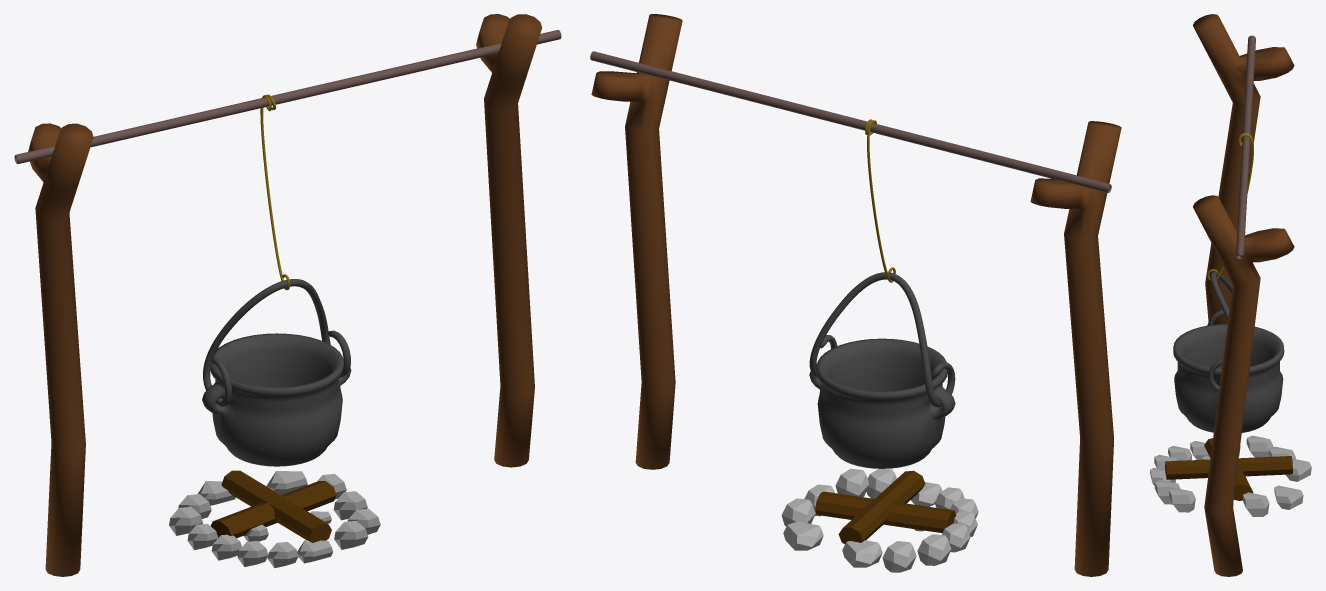
File: FOGUEIRA.prontra (2).fbx
The picture shows the model from 3 angles, left to right: view 1: azimuth 30°, elevation 25°; view 2: azimuth 150°, elevation 25°; view 3: azimuth 270°, elevation 25°; orthographic projection. The views are drawn at different scales.
Parts seen in each view (by area): view 1: Cilindro.001, Cilindro, Cubo.015, Cilindro.003, Cilindro.005; view 2: Cilindro.001, Cilindro, Cubo.015, Cilindro.003, Cilindro.005; view 3: Cilindro.001, Cilindro, Cubo.015, Cilindro.005, Cilindro.003.
Part boxes in pixels (x1,y1,x2,y2): Cilindro.001: (28, 14, 542, 576); Cilindro: (202, 279, 351, 466); Cubo.015: (169, 471, 380, 568); Cilindro.003: (14, 30, 561, 290); Cilindro.005: (210, 470, 336, 542); Cilindro.001: (591, 14, 1121, 576); Cilindro: (809, 272, 955, 468); Cubo.015: (781, 468, 978, 572); Cilindro.003: (590, 51, 1111, 282); Cilindro.005: (815, 470, 956, 543); Cilindro.001: (1193, 14, 1294, 576); Cilindro: (1173, 271, 1284, 432); Cubo.015: (1150, 435, 1311, 516); Cilindro.005: (1165, 438, 1292, 500); Cilindro.003: (1207, 35, 1255, 280).
Bounding box in the file's own units: 89.58 × 74.16 × 28.31.
